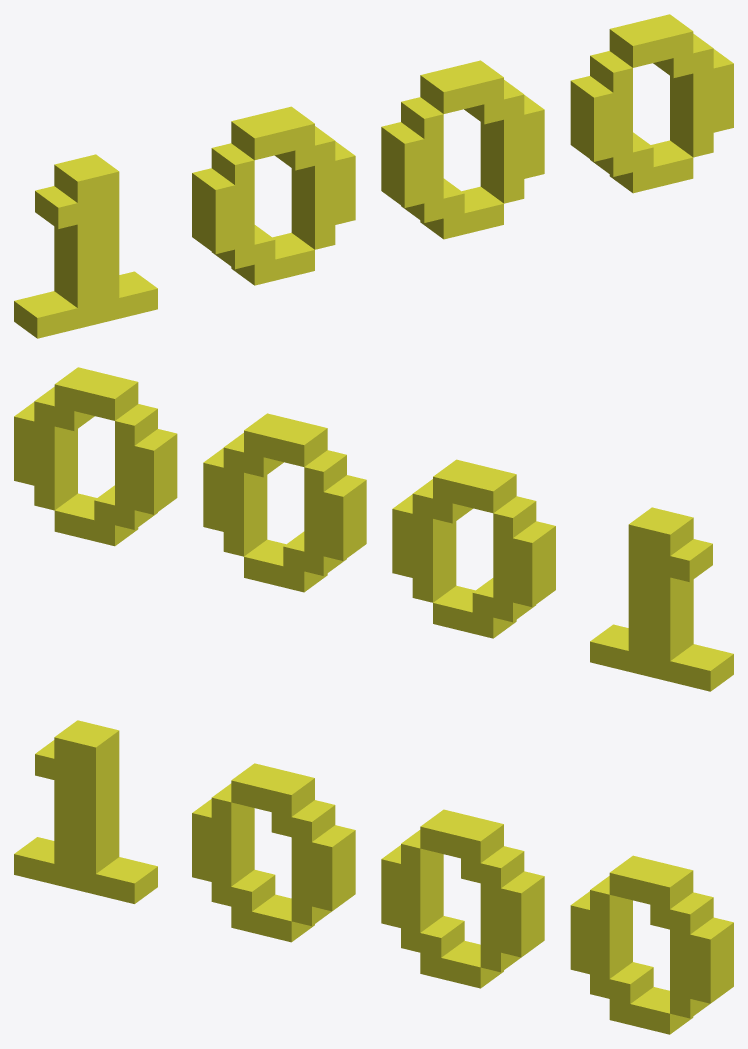
3 views of the same model, one above another, from view 1: azimuth 30°, elevation 25°; view 2: azimuth 150°, elevation 25°; view 3: azimuth 330°, elevation 25° (orthographic).
Visible parts, largest first — view 1: 0, 0.2, 0.3, 1; view 2: 0, 0.2, 0.3, 1; view 3: 0, 0.2, 0.3, 1.
Boxes of the visible parts, x1=… form: 0: x1=192, y1=106, x2=355, y2=285; 0.2: x1=381, y1=60, x2=544, y2=239; 0.3: x1=570, y1=14, x2=733, y2=193; 1: x1=14, y1=154, x2=157, y2=338; 0: x1=392, y1=459, x2=555, y2=638; 0.2: x1=203, y1=413, x2=366, y2=592; 0.3: x1=14, y1=367, x2=177, y2=546; 1: x1=590, y1=507, x2=733, y2=691; 0: x1=192, y1=763, x2=355, y2=942; 0.2: x1=381, y1=809, x2=544, y2=988; 0.3: x1=570, y1=855, x2=733, y2=1034; 1: x1=14, y1=720, x2=157, y2=903.
Size of the model in its own units: 515 by 104 by 30.
